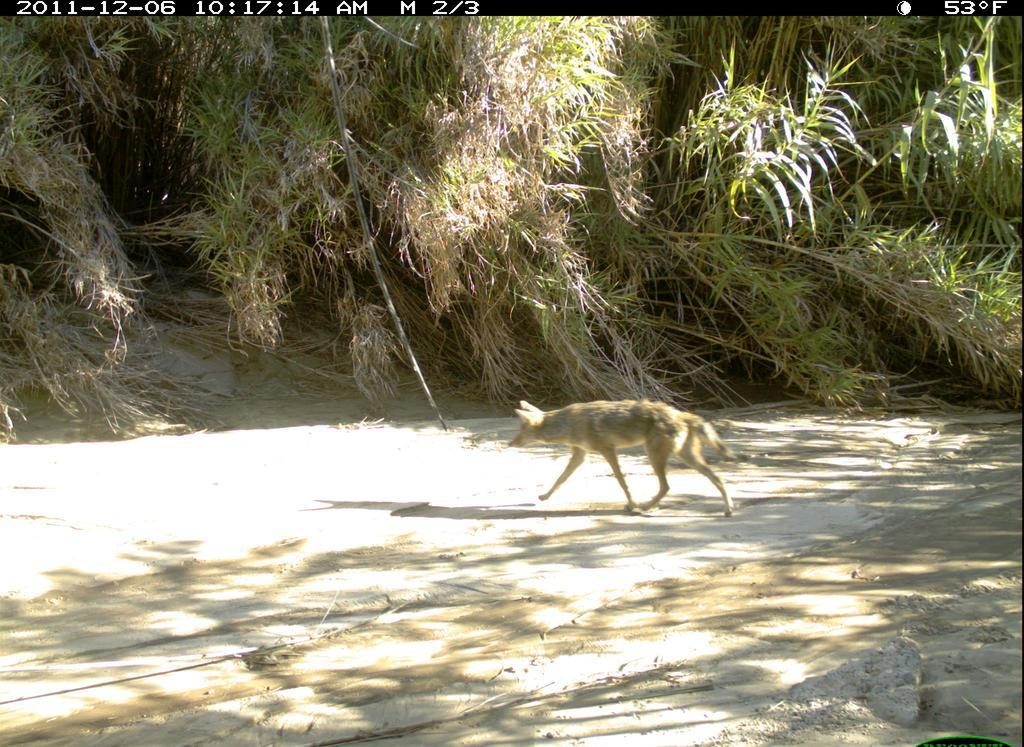coyote: (511, 390, 748, 521)
